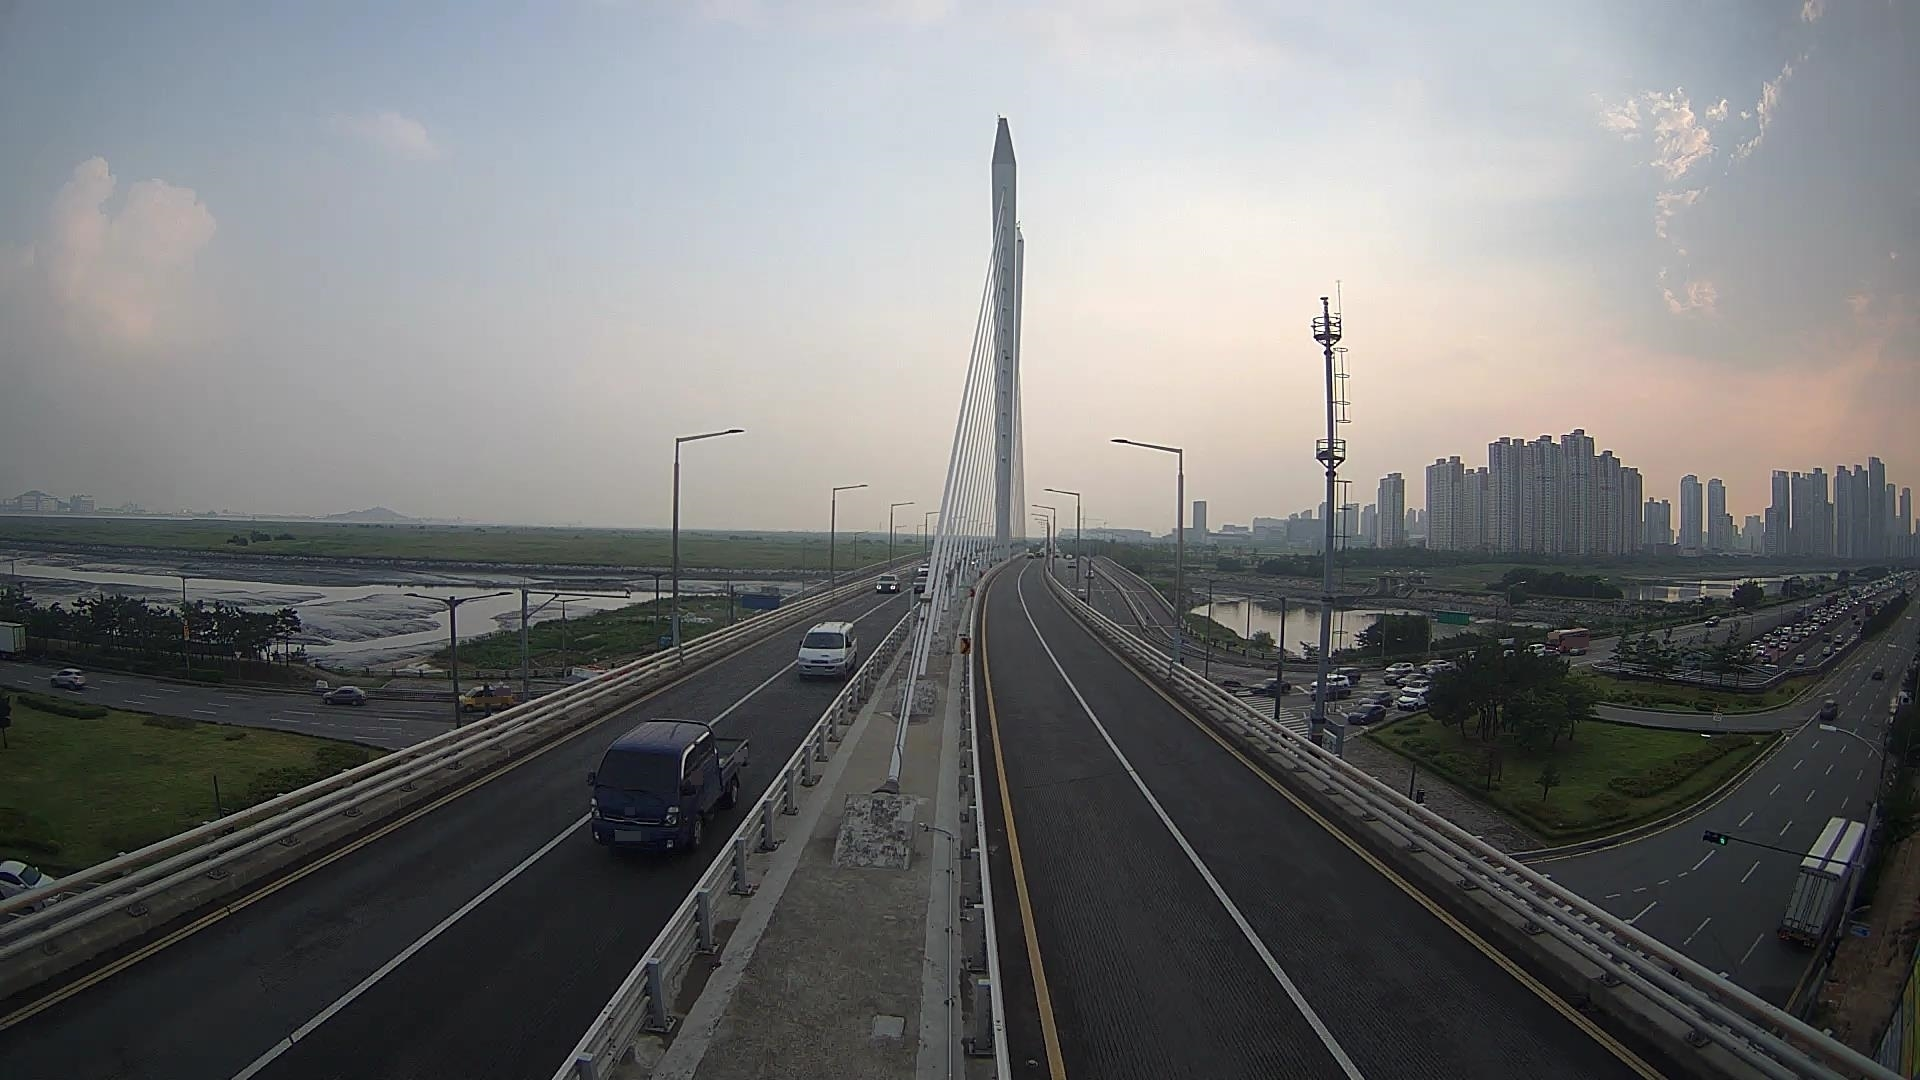정상차량: (587, 717, 749, 851)
